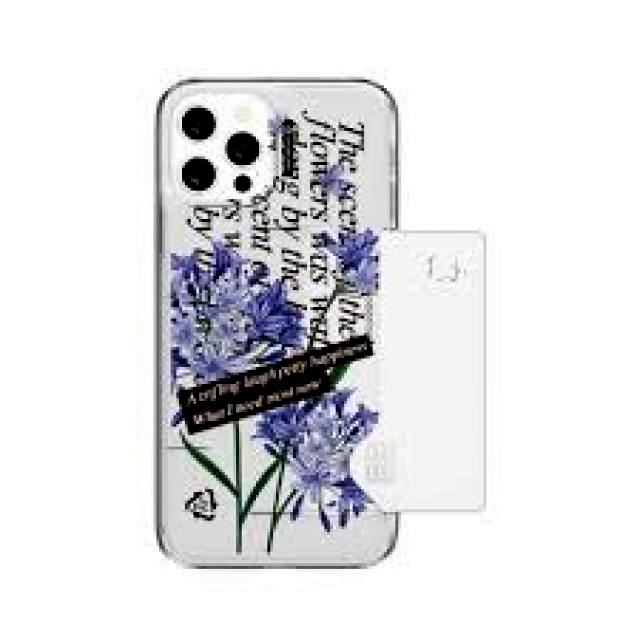lens_back: (177, 151, 222, 202), (220, 126, 270, 171), (177, 103, 220, 146)
phone: (155, 82, 402, 567)
